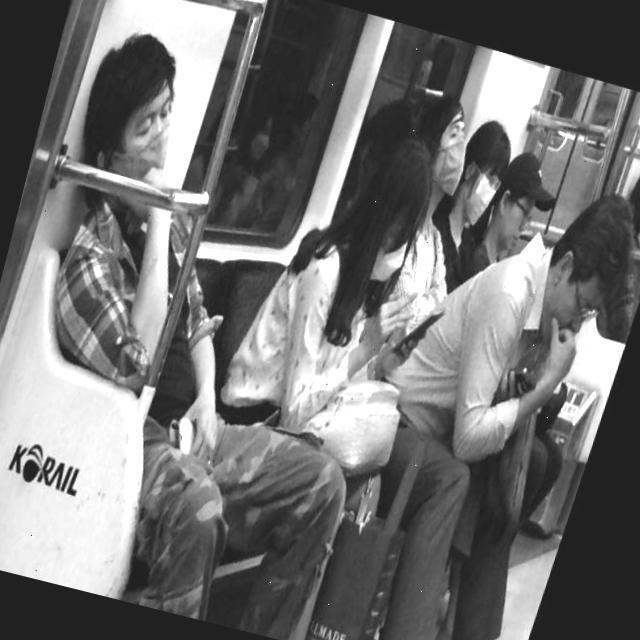no_apron: (363, 278, 426, 346), (163, 404, 236, 462), (539, 313, 578, 380)
